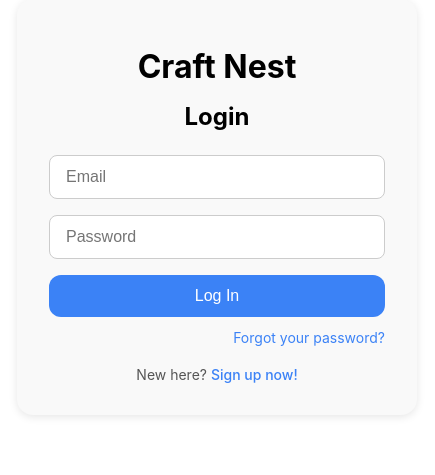
Test: Login Component Given/When/Then Tests › Given unknown role, When login flow completes, Then show "Unknown role."
Type "x@x.com" into the field with placeholder "Email".
click(217, 177); type("x@x.com")  # box [49,155,385,199]
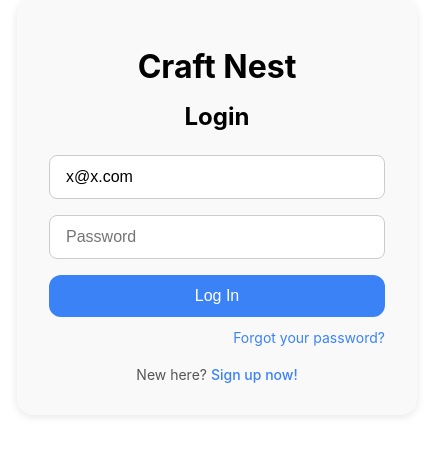
Type "pass" into the password field with placeholder "Password".
click(217, 237); type("pass")  # box [49,215,385,259]
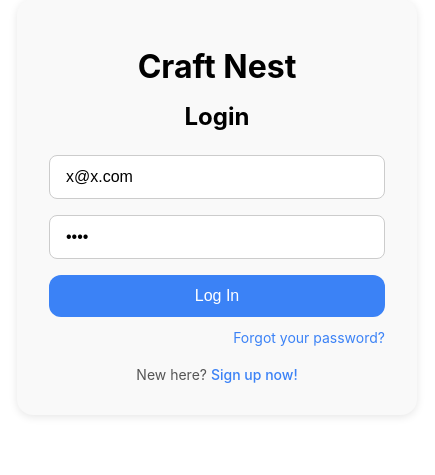
Click the button "Log In".
click(217, 296)  # box [49,275,385,317]
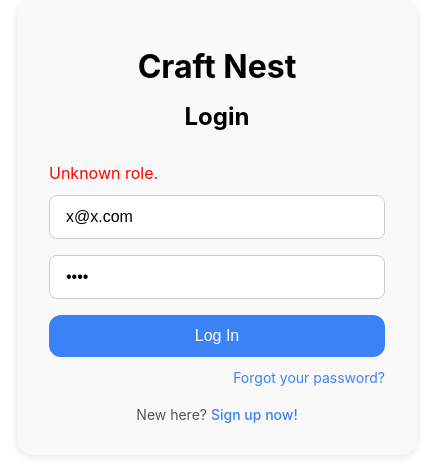
Expected: the text "Unknown role." is shown, [49,163,158,183]
